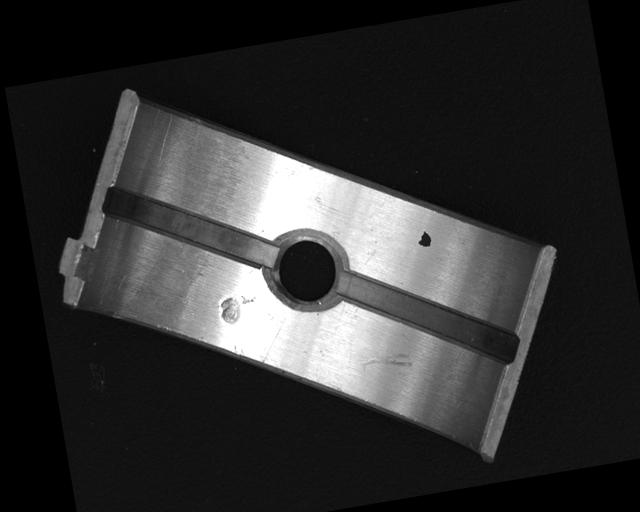blot: (416, 229, 432, 249)
bruise: (217, 290, 261, 327)
gap: (339, 245, 519, 388), (102, 162, 278, 290)
hole: (262, 224, 349, 317)
nick: (358, 349, 414, 376)
